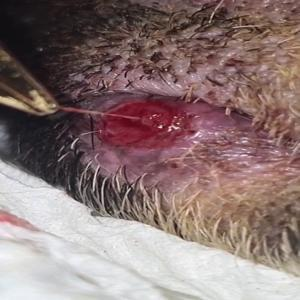skin_lesions: (85, 95, 207, 158)
